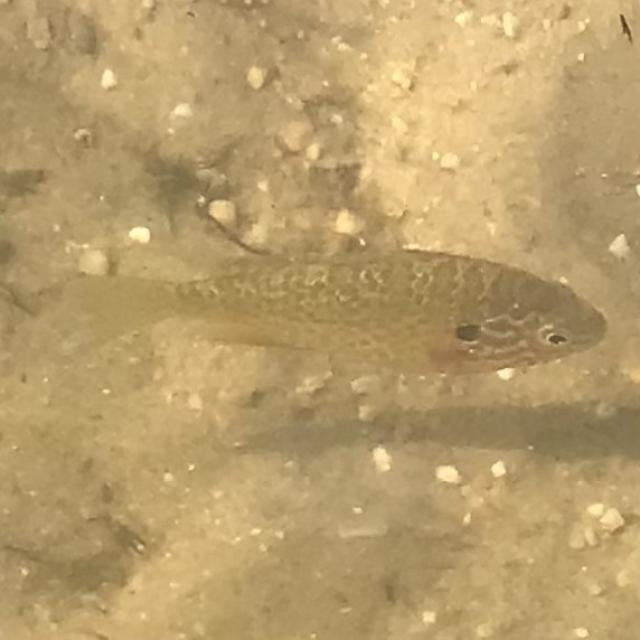Gunes Levregi: (44, 219, 612, 397)
